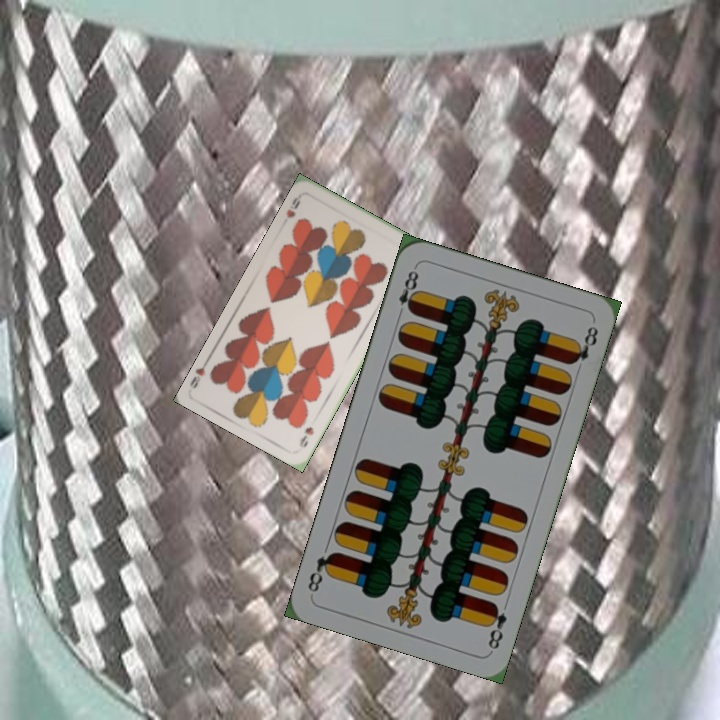E8: (393, 263, 422, 321), (483, 598, 510, 652)
H9: (282, 190, 304, 221), (295, 423, 317, 450)
